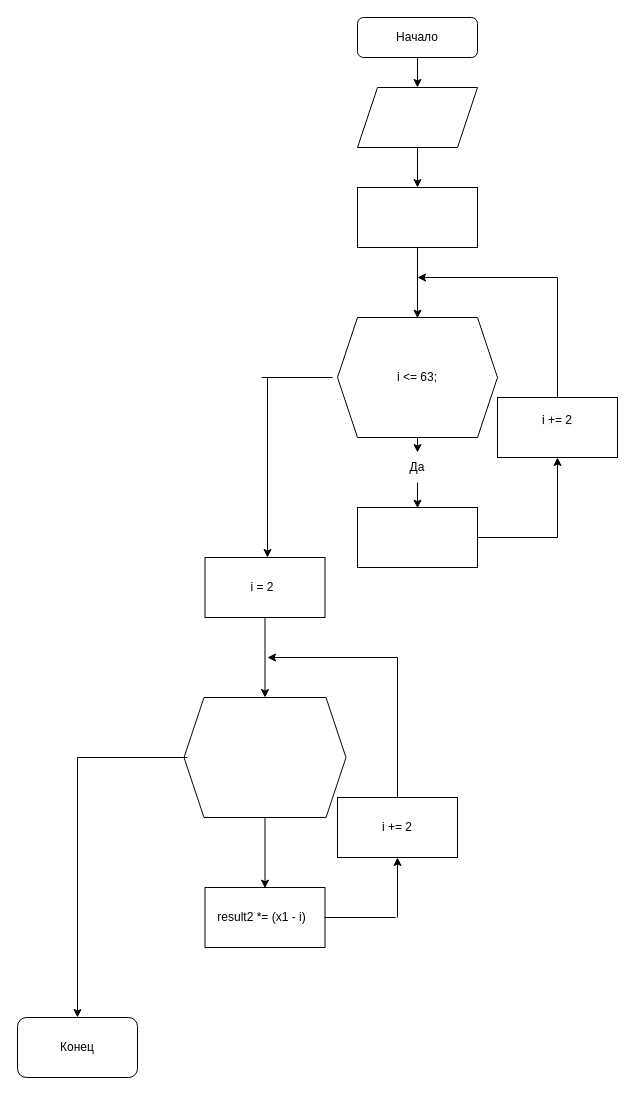
Image size: 635x1095. Some labels were removed from this diagram. Here are the shapes that lost their labels. From the top down, the centre of each, then its label:
(x=417, y=117): Ввод х
(x=417, y=217): i = 1
(x=417, y=537): result1 *= (x1 - i)
(x=264, y=757): i <= 64
